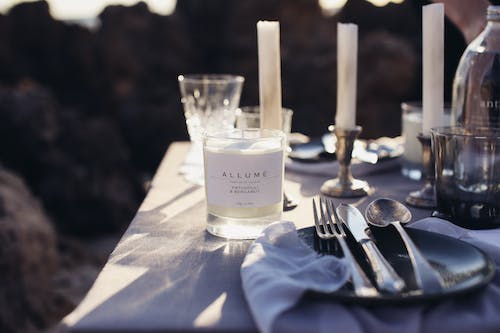knife: (334, 201, 407, 295)
